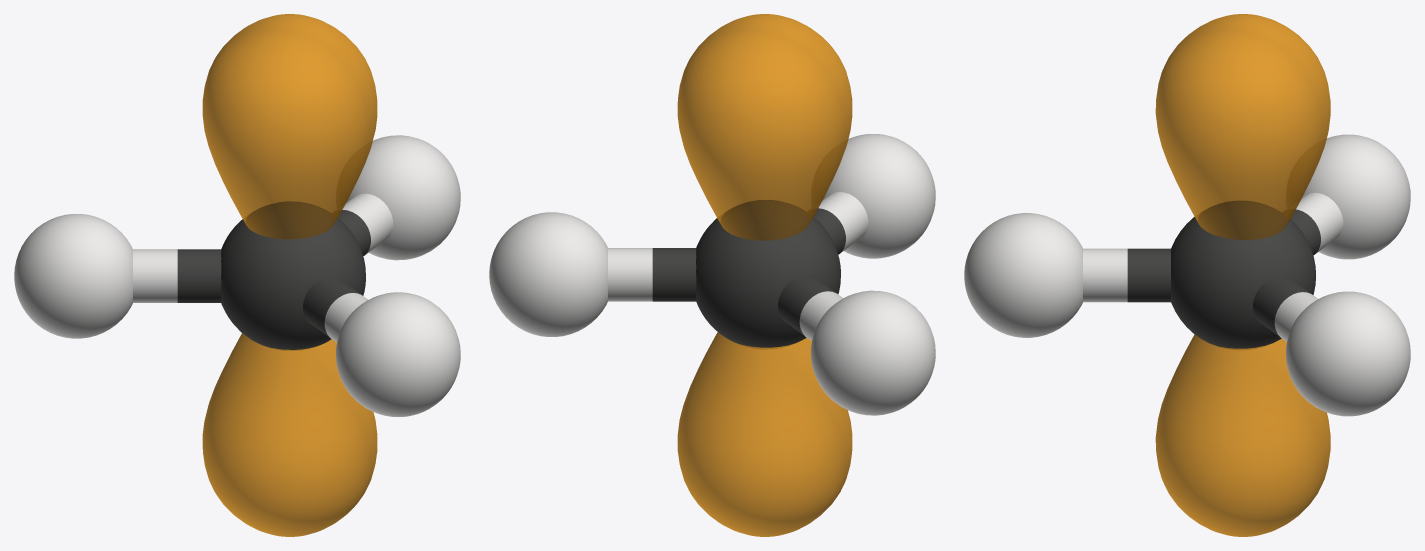
3 renders of one model, left to right at view 1: azimuth 30°, elevation 25°; view 2: azimuth 150°, elevation 25°; view 3: azimuth 270°, elevation 25°, orthographic.
Parts seen in each view (by area): view 1: D012; view 2: D012; view 3: D012.
Part boxes in pixels (x1,y1,x2,y2): D012: [14, 14, 460, 536]; D012: [489, 14, 935, 536]; D012: [964, 14, 1410, 536].
Bounding box in the file's own units: 21.4 × 24.23 × 19.26.
